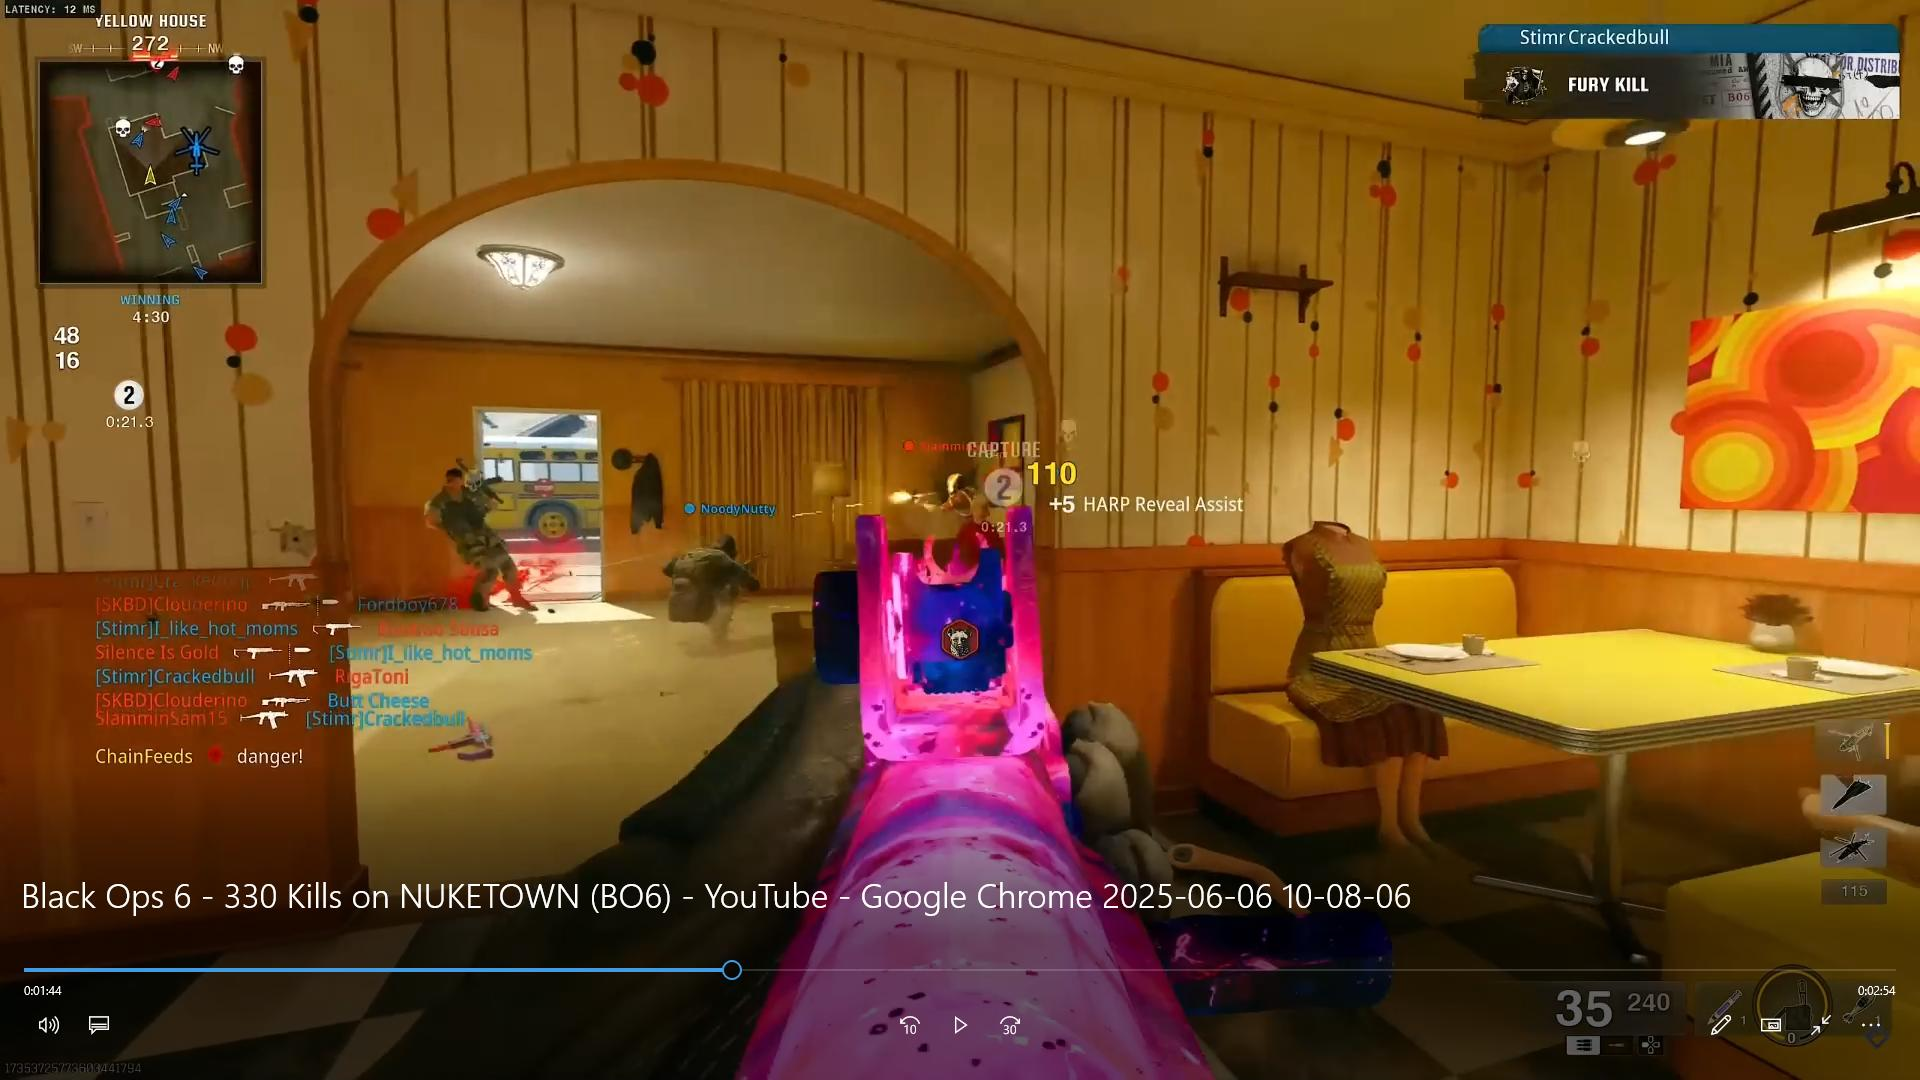Enemy: (413, 454, 537, 603), (663, 525, 765, 632), (911, 462, 1009, 542)
